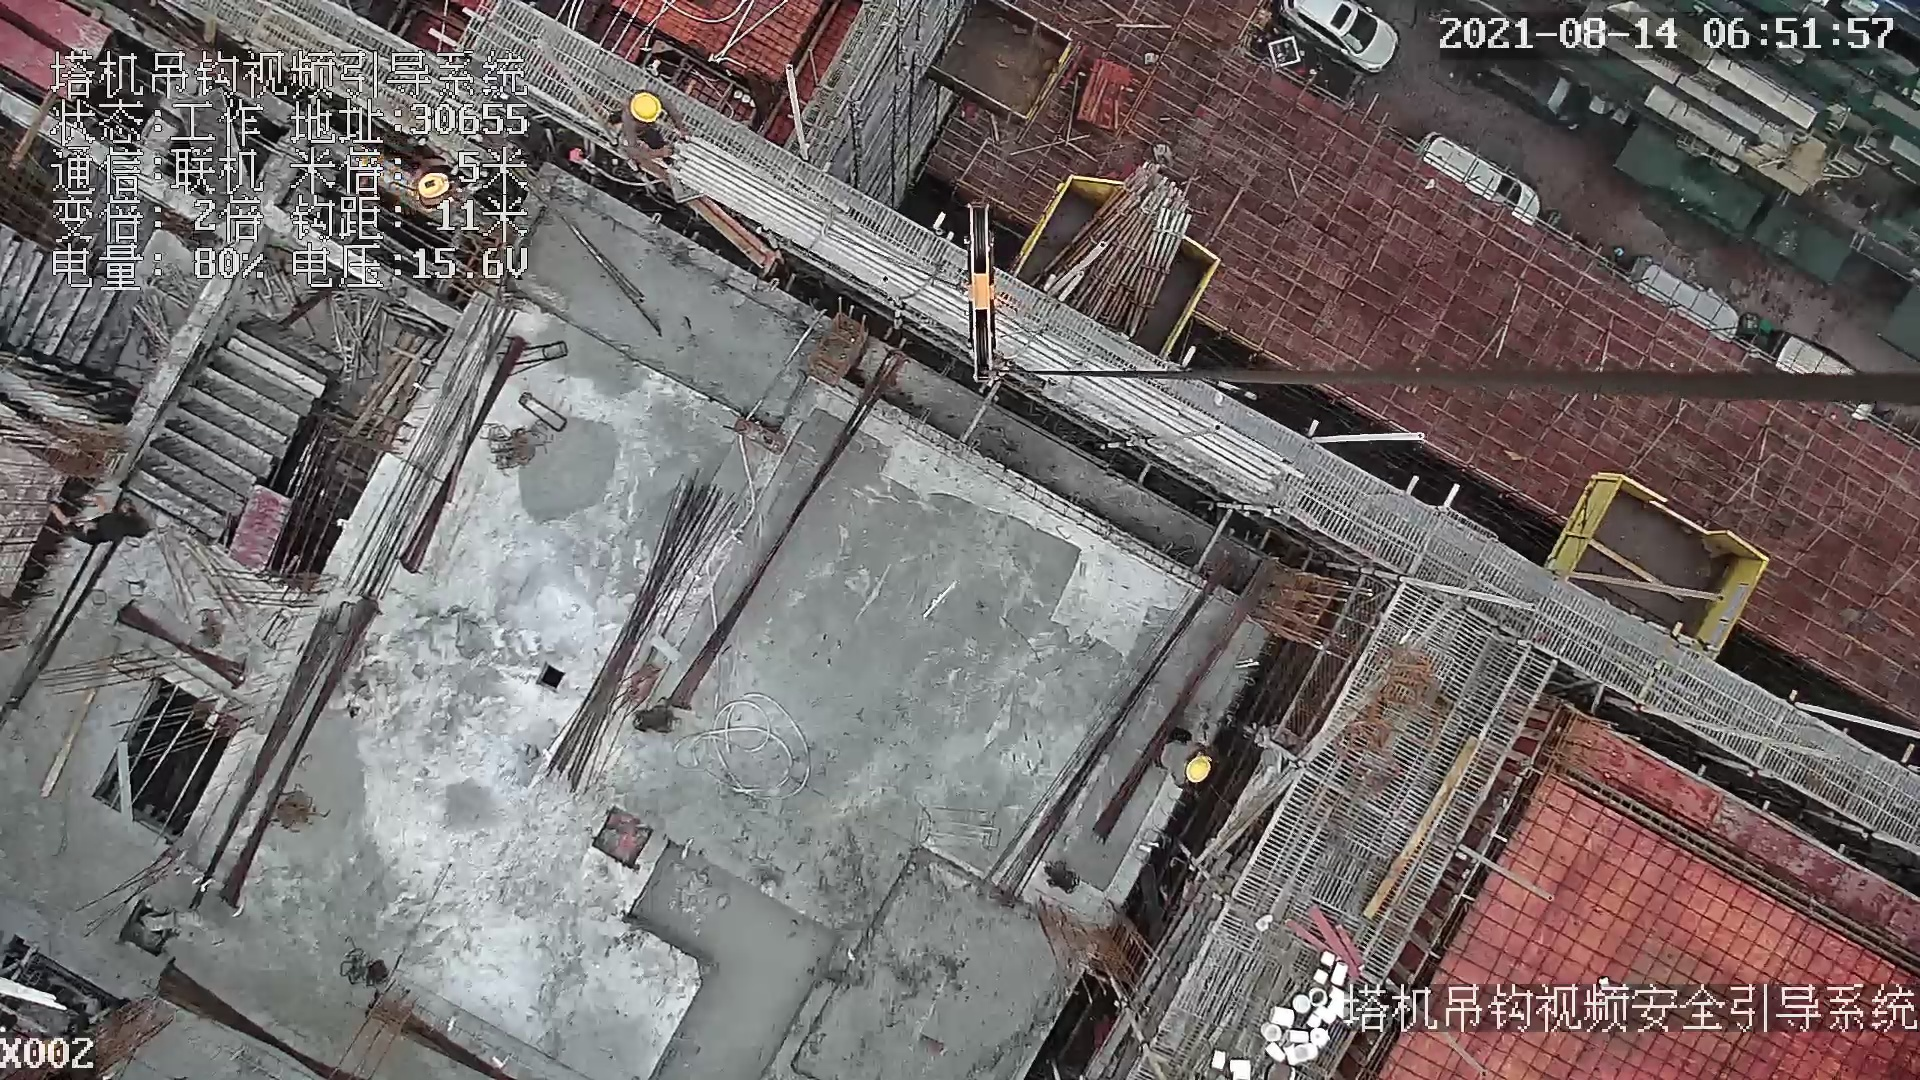helmet: (630, 94, 662, 122), (1185, 756, 1210, 783)
hook: (953, 192, 1023, 390)
person: (1147, 723, 1229, 806), (615, 94, 692, 168), (52, 497, 150, 549)
rebar: (671, 138, 1286, 494), (543, 469, 740, 794)
scaffold: (1027, 161, 1192, 342)
